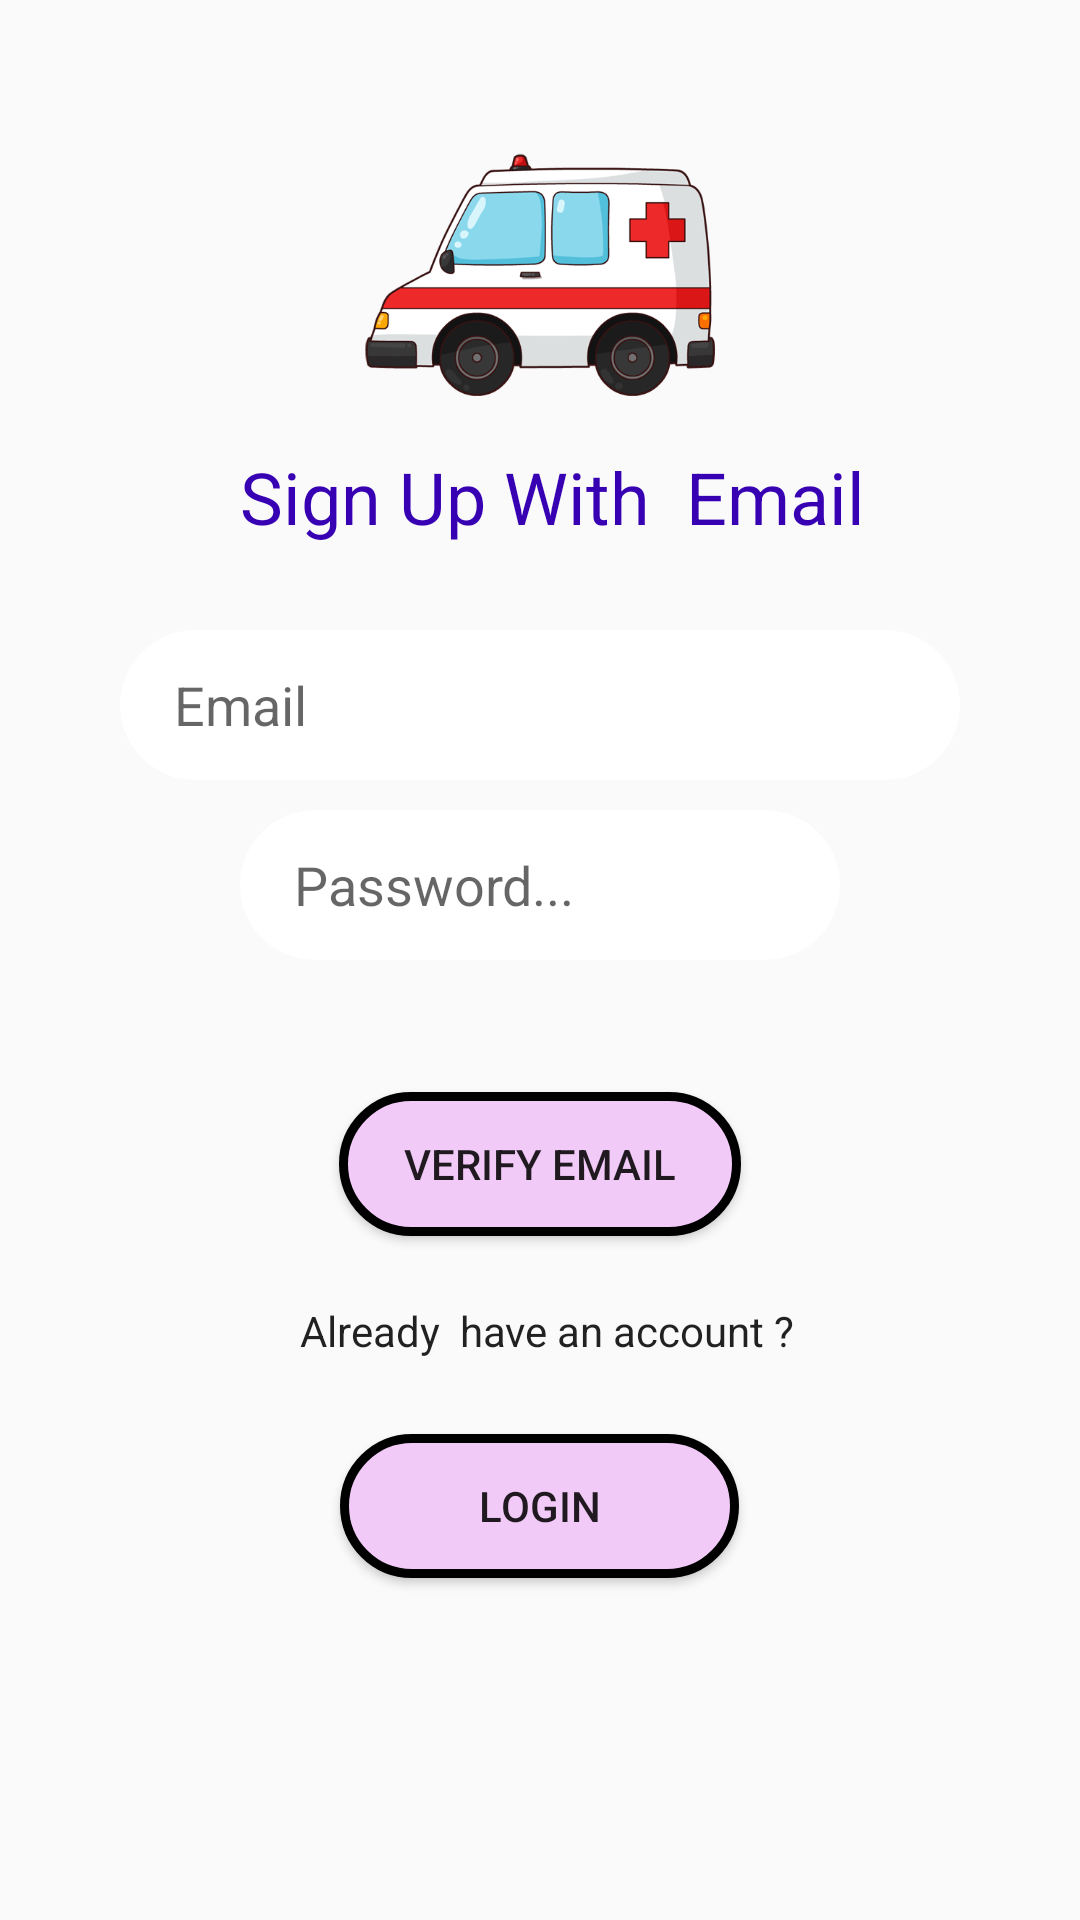

Named icons in this screenshot (1080*1920) and their centers, [x,y]:
ambu: [540,275]
